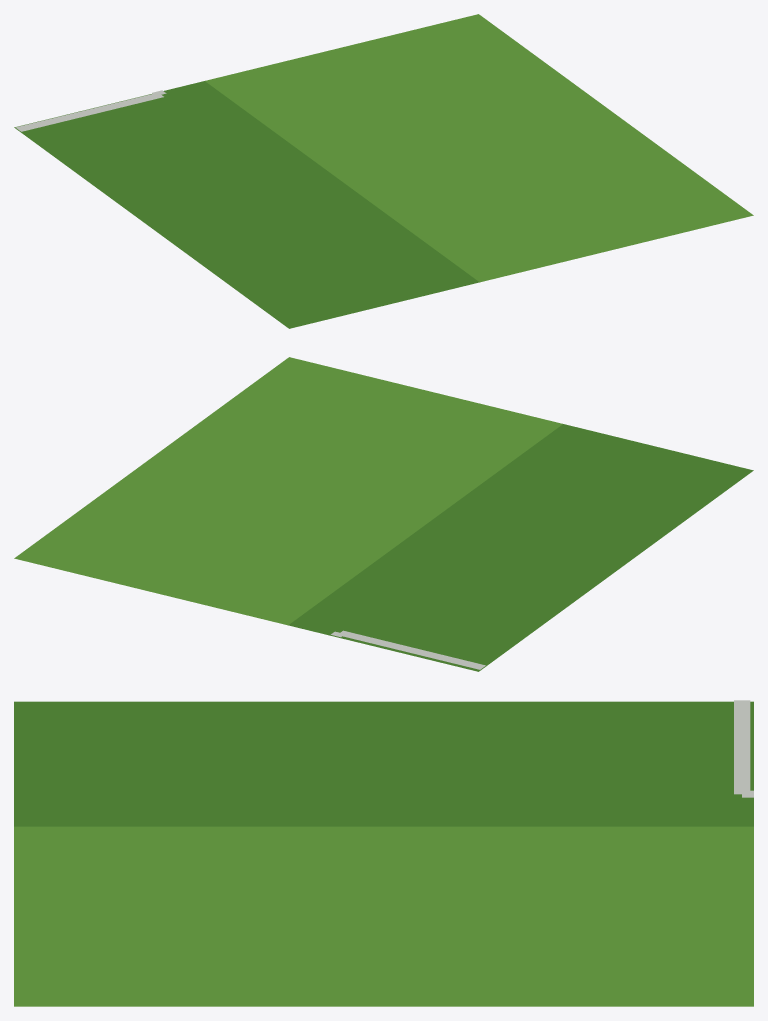
Rendered from pitch_f_2_6.glb.
3 views of the same model, one above another, from view 1: azimuth 30°, elevation 25°; view 2: azimuth 150°, elevation 25°; view 3: azimuth 270°, elevation 25° (orthographic). The views are drawn at different scales.
Parts seen in each view (by area): view 1: pitch_f_2_6; view 2: pitch_f_2_6; view 3: pitch_f_2_6.
Part boxes in pixels (box(x1,y1,x2,y2)): pitch_f_2_6: box(14, 14, 753, 328); pitch_f_2_6: box(14, 357, 753, 671); pitch_f_2_6: box(14, 700, 753, 1006).
Size of the model in its own units: 9.75 by 0.02 by 10.
